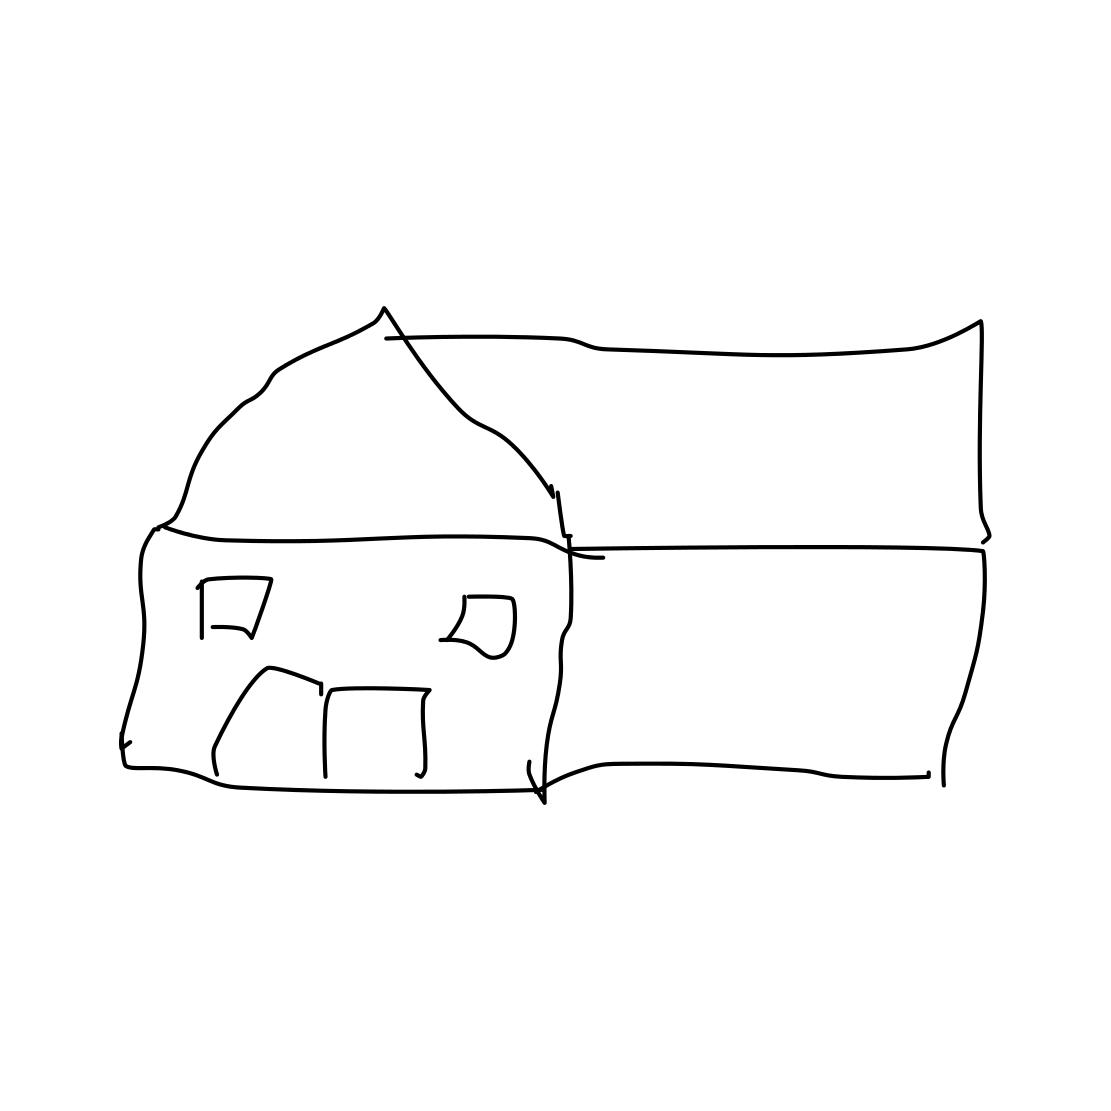House: (86, 236, 1008, 820)
